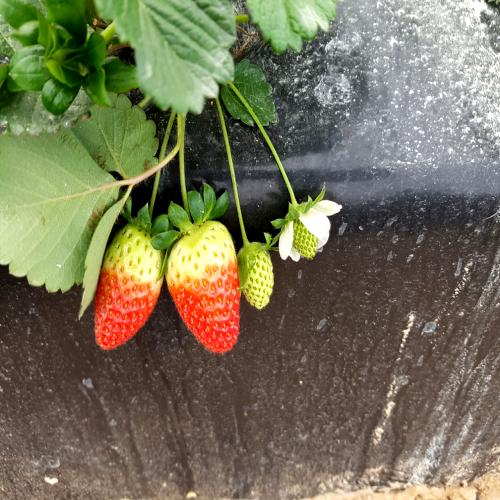partially-ripe: (172, 215, 242, 377), (98, 206, 166, 356)
